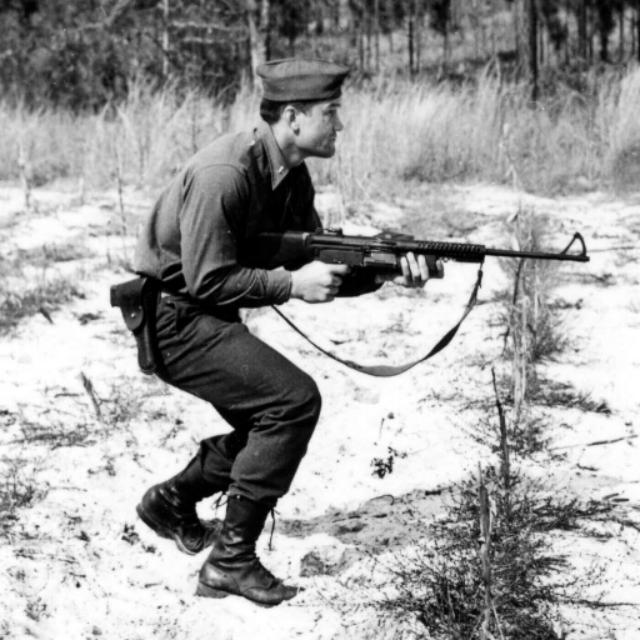other: (132, 59, 348, 537)
